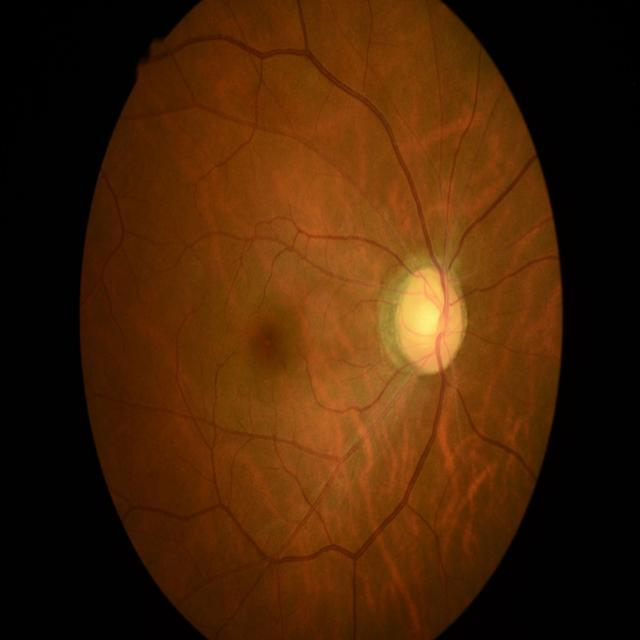cup: (403, 278, 449, 361)
disk: (396, 266, 469, 376)
